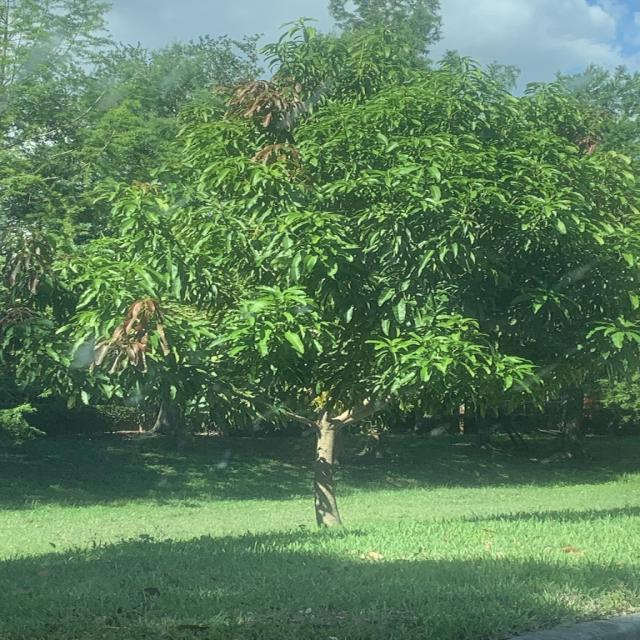Mango-Tree: (54, 15, 620, 495)
